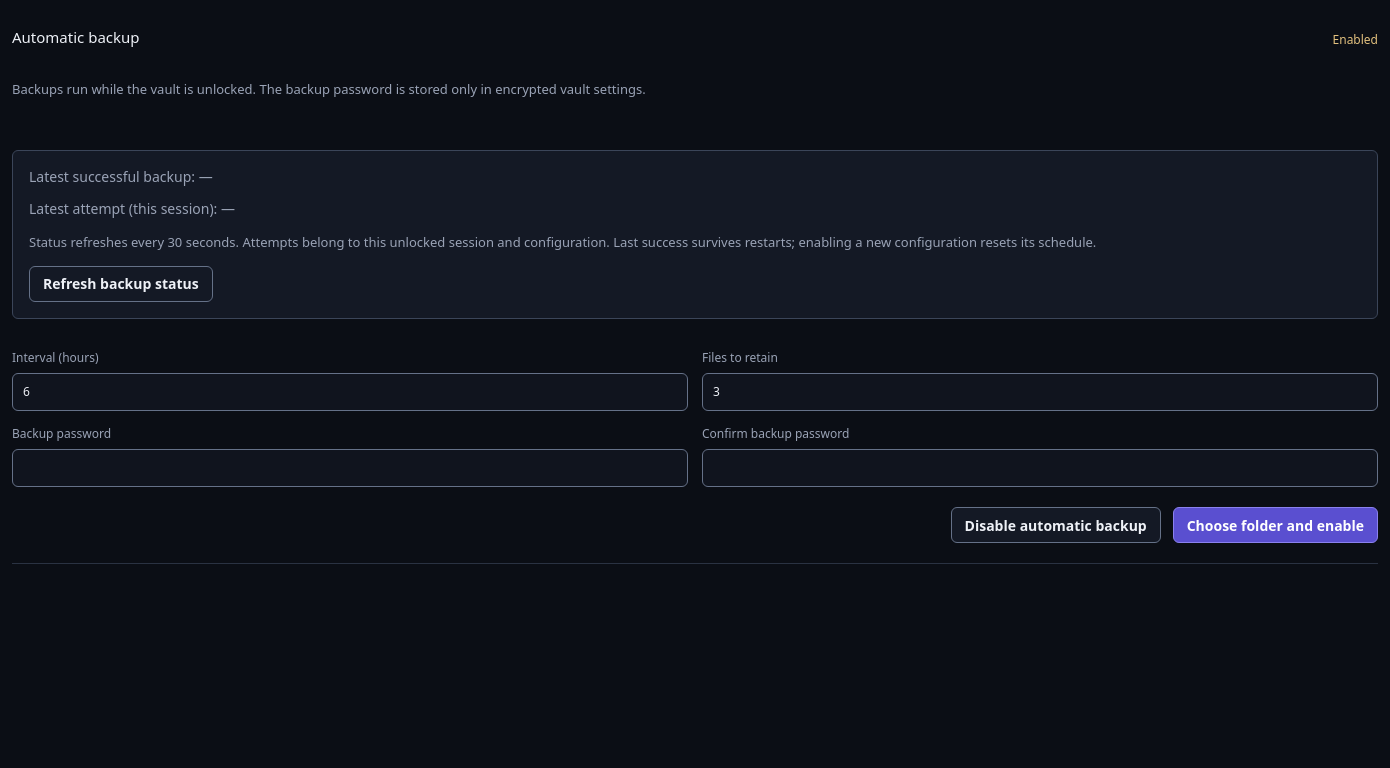
Test case: automatic backup settings › does not let a status response overwrite a newer configuration
This screenshot has width=1390, height=768.
Expected: the number field labelled "Interval (hours)" is shown, 12,373 -> 688,411
Click the button "Refresh backup status" at (121, 284), box 29,266 -> 213,302
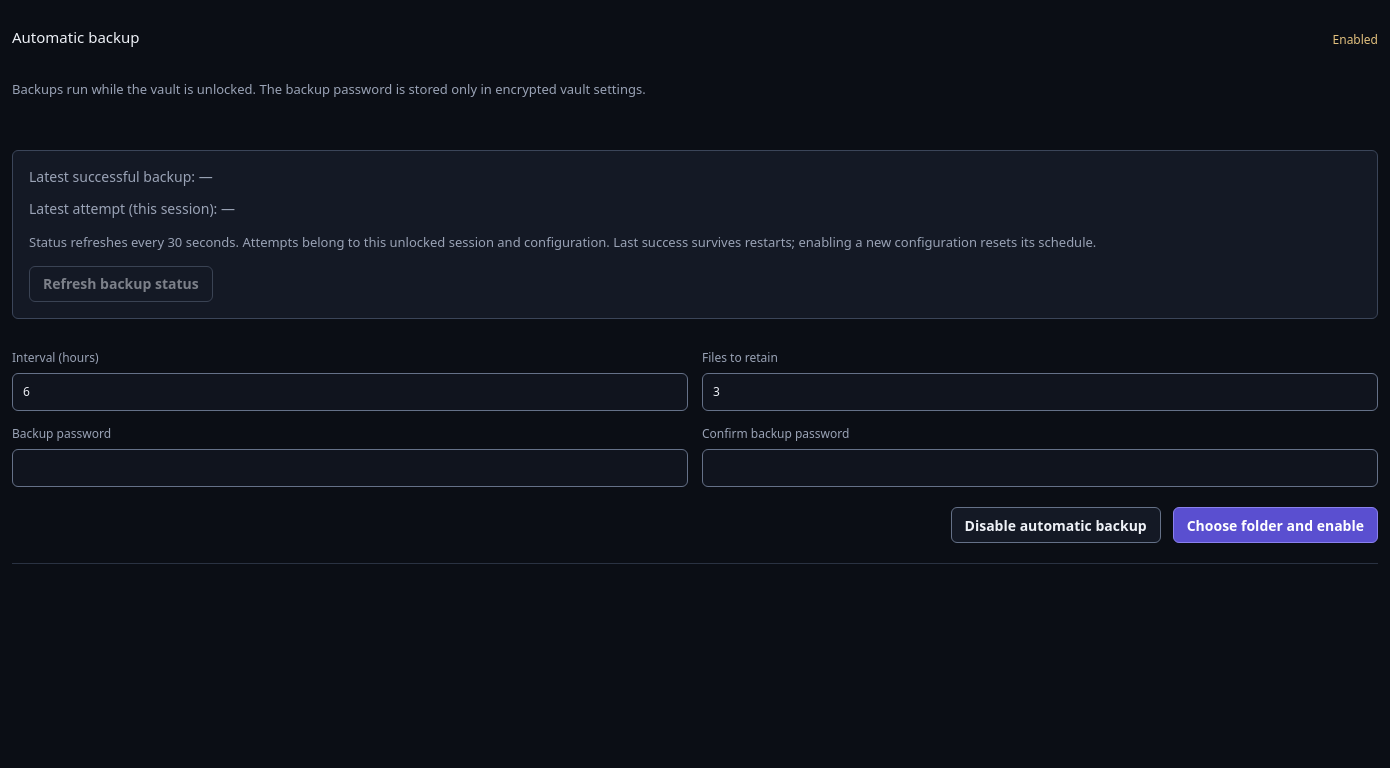
Click the button "Disable automatic backup" at (1056, 525), box 951,507 -> 1161,543
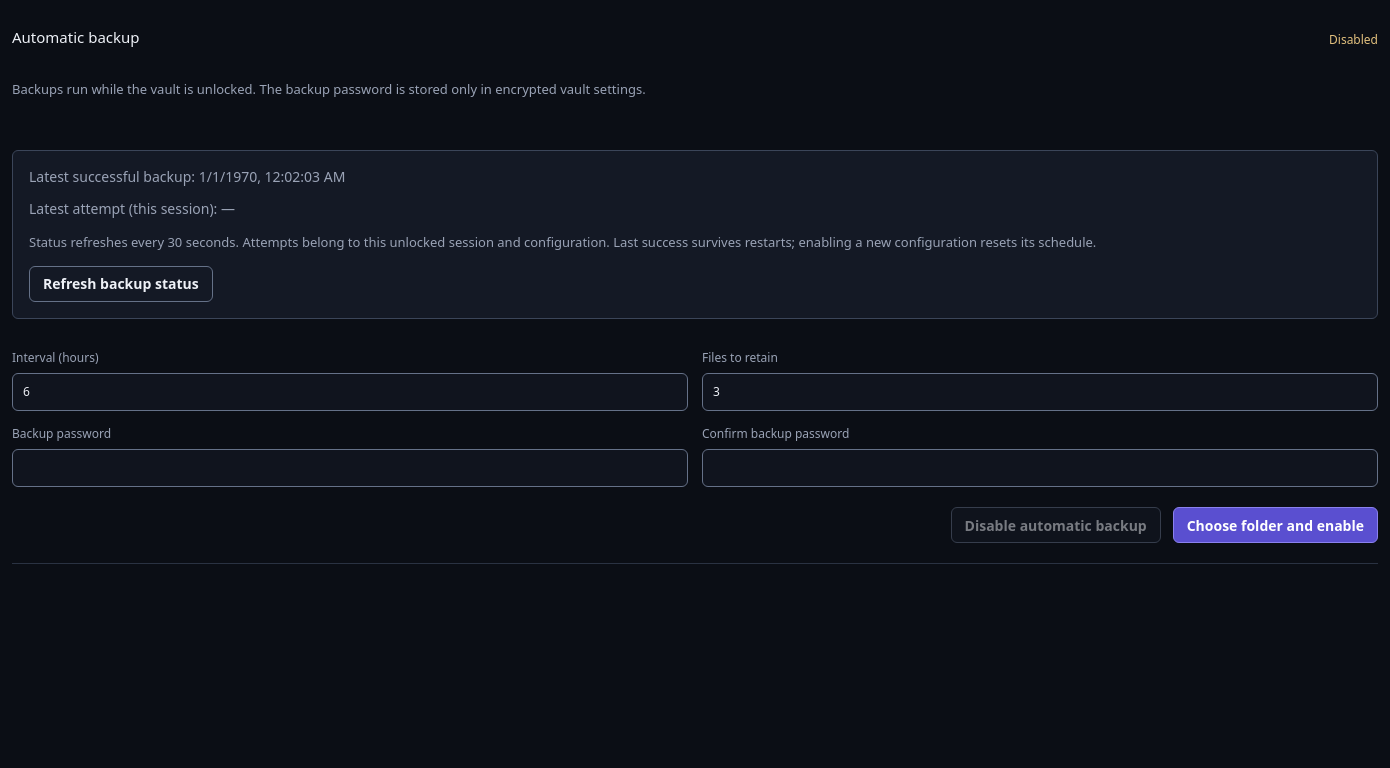
Expected: the number field labelled "Interval (hours)" holds "6", 12,373 -> 688,411
Result: the text "Disabled" is shown at 1329,31 -> 1378,48
Result: the button "Disable automatic backup" is disabled at 951,507 -> 1161,543
